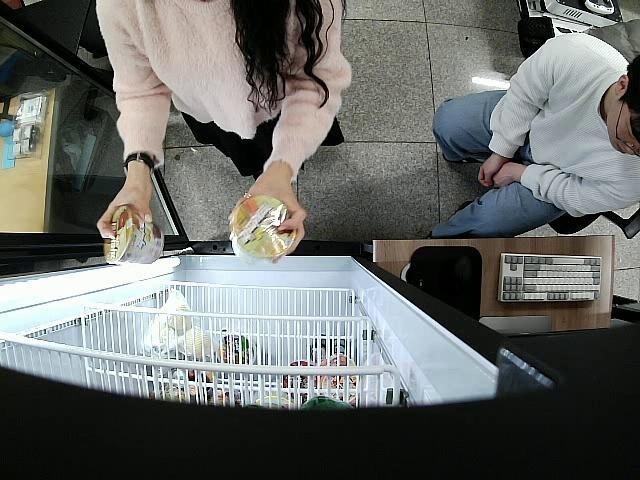04_chapagetti_S: (228, 198, 296, 260), (104, 205, 163, 266)
